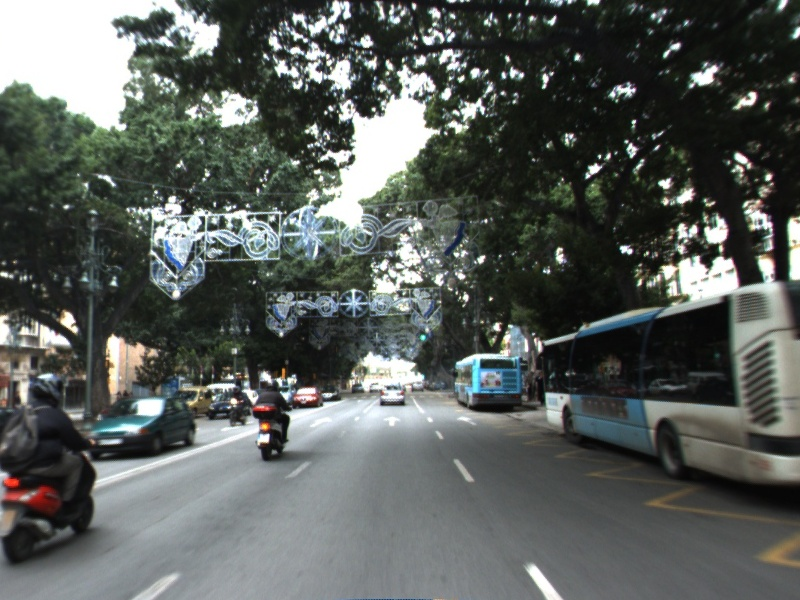STRAIGHT: (307, 414, 335, 430), (454, 413, 481, 428), (379, 414, 404, 429)
